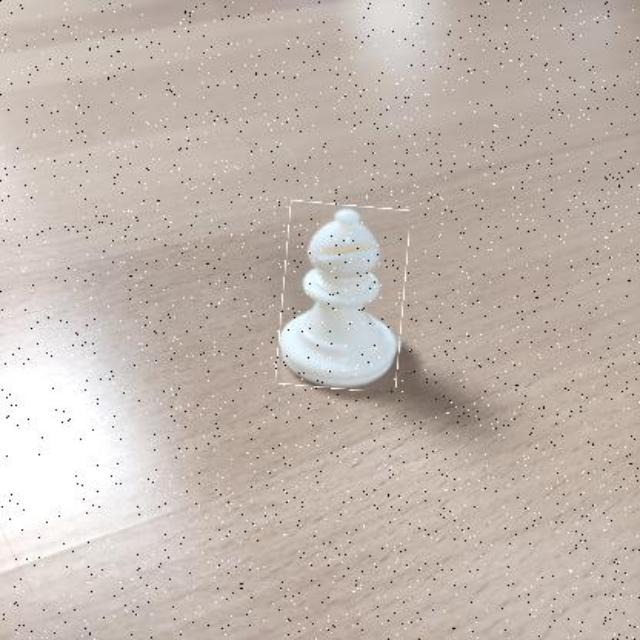white-bishop: (278, 203, 407, 389)
